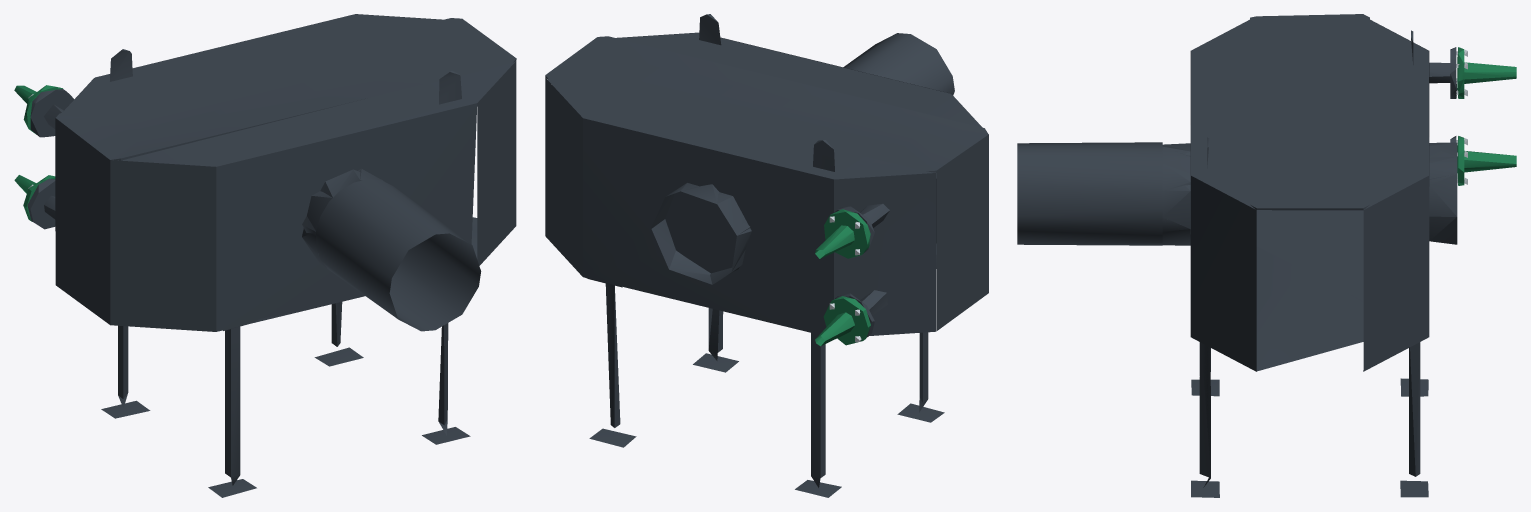
File: economizer.glb
3 views of the same model, side by side, from view 1: azimuth 30°, elevation 25°; view 2: azimuth 150°, elevation 25°; view 3: azimuth 270°, elevation 25° (orthographic). The views are drawn at different scales.
Parts seen in each view (by area): view 1: economizer, flue_spacer, eco_inlet_adapter; view 2: economizer, eco_inlet_adapter, flue_spacer; view 3: economizer, flue_spacer, eco_inlet_adapter.
Boxes of the visible parts, bbox=[...] form: economizer: bbox=[27, 14, 516, 497]; flue_spacer: bbox=[316, 179, 481, 331]; eco_inlet_adapter: bbox=[14, 85, 62, 221]; economizer: bbox=[545, 14, 988, 497]; eco_inlet_adapter: bbox=[815, 209, 870, 346]; flue_spacer: bbox=[843, 33, 954, 95]; economizer: bbox=[1162, 14, 1457, 497]; flue_spacer: bbox=[1017, 142, 1162, 245]; eco_inlet_adapter: bbox=[1456, 47, 1516, 185].
Bounding box in the file's own units: 1.58 × 1.35 × 1.72.
